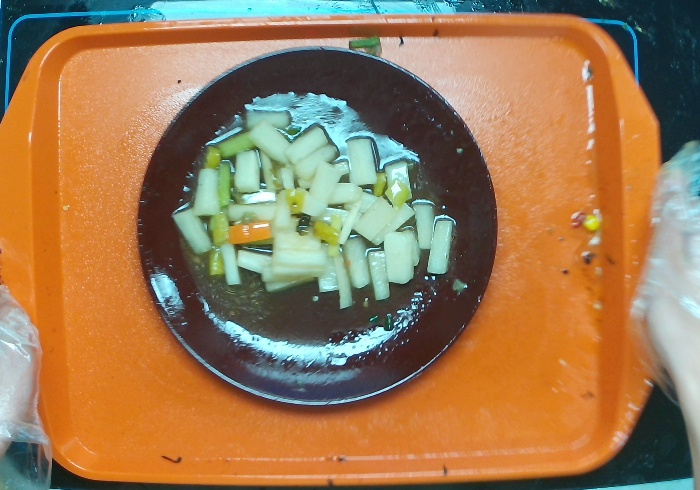HZYJPL-Ka_Fei_Yuan_Pan: (133, 45, 502, 408)
